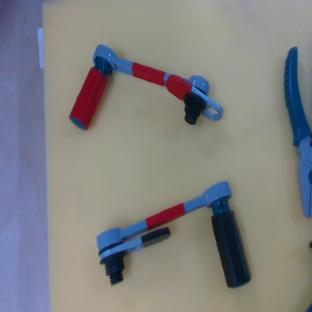non_pass: (89, 181, 251, 312)
pass: (67, 42, 232, 168)
